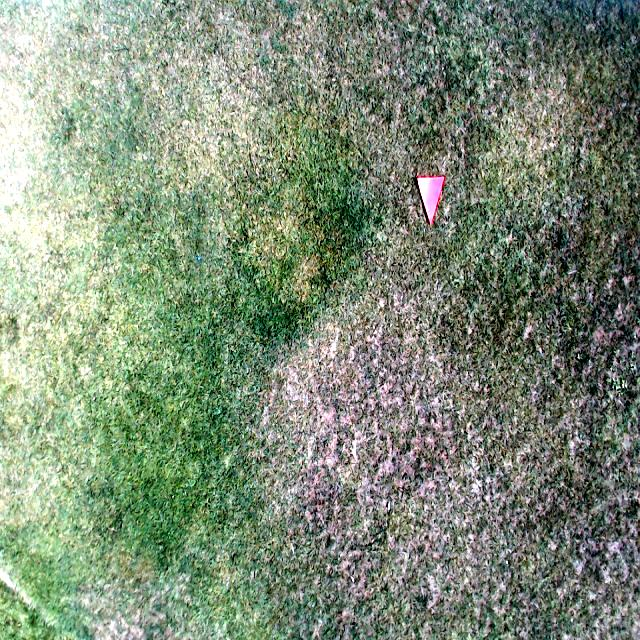red_triangle: (417, 176, 445, 225)
